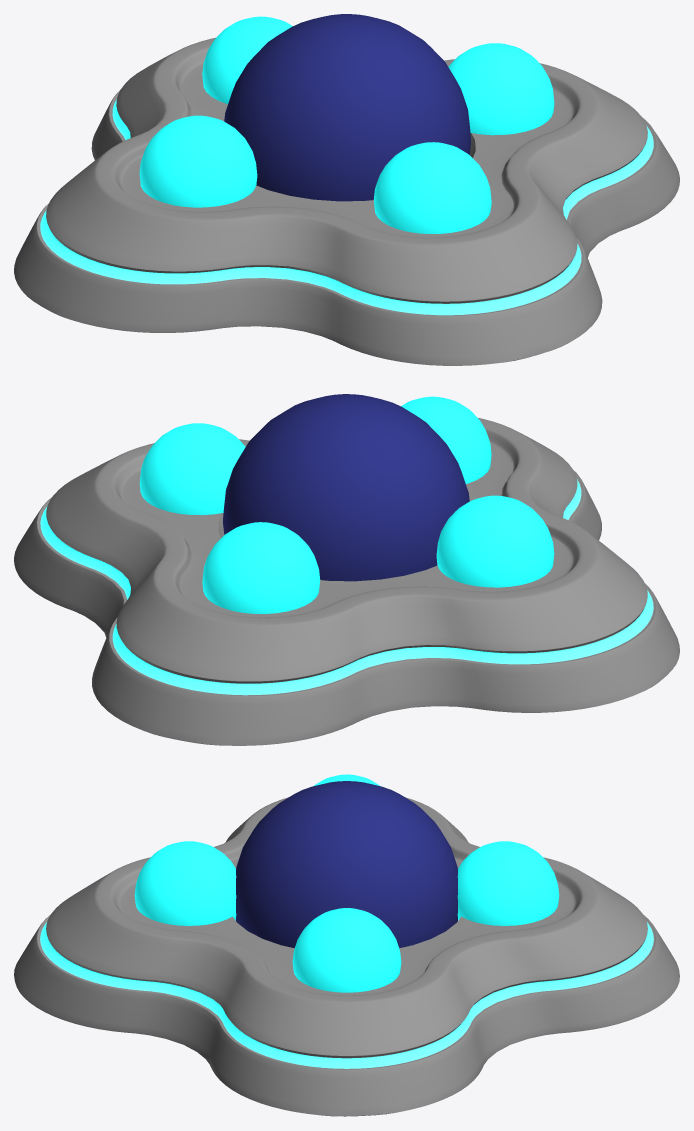
Rendered from Spinner.fbx.
3 views of the same model, one above another, from view 1: azimuth 30°, elevation 25°; view 2: azimuth 150°, elevation 25°; view 3: azimuth 270°, elevation 25° (orthographic). The views are drawn at different scales.
Visible parts, largest first — view 1: Anchor.base.002, Sphere.004, Sphere.009, Sphere.006, Sphere.007, Sphere.008; view 2: Anchor.base.002, Sphere.004, Sphere.009, Sphere.008, Sphere.007, Sphere.006; view 3: Anchor.base.002, Sphere.004, Sphere.007, Sphere.006, Sphere.008.
Boxes of the visible parts, x1,y1,x2,y2 form: Anchor.base.002: (14, 37, 679, 365); Sphere.004: (224, 14, 471, 201); Sphere.009: (139, 115, 257, 207); Sphere.006: (373, 142, 491, 233); Sphere.007: (448, 43, 554, 135); Sphere.008: (202, 16, 292, 103); Anchor.base.002: (14, 418, 679, 745); Sphere.004: (223, 394, 469, 581); Sphere.009: (436, 495, 554, 587); Sphere.008: (202, 522, 320, 613); Sphere.007: (139, 423, 245, 515); Sphere.006: (401, 396, 491, 483); Anchor.base.002: (14, 797, 679, 1116); Sphere.004: (236, 781, 457, 948); Sphere.007: (292, 908, 401, 992); Sphere.006: (134, 841, 236, 925); Sphere.008: (457, 841, 559, 925).
Bounding box in the file's own units: 160 × 55.09 × 160.
